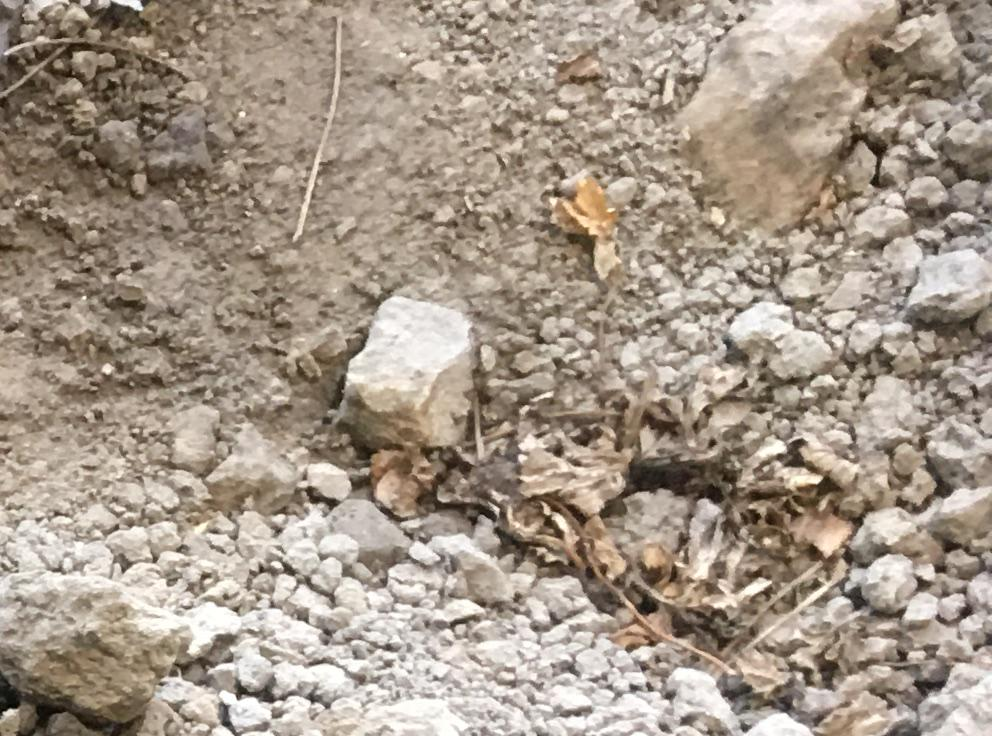block: (679, 1, 903, 247), (1, 575, 187, 722), (335, 299, 477, 452)
